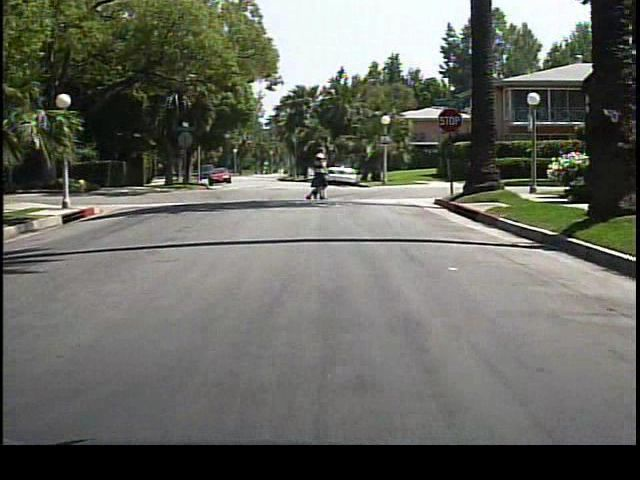person: (303, 147, 329, 202)
